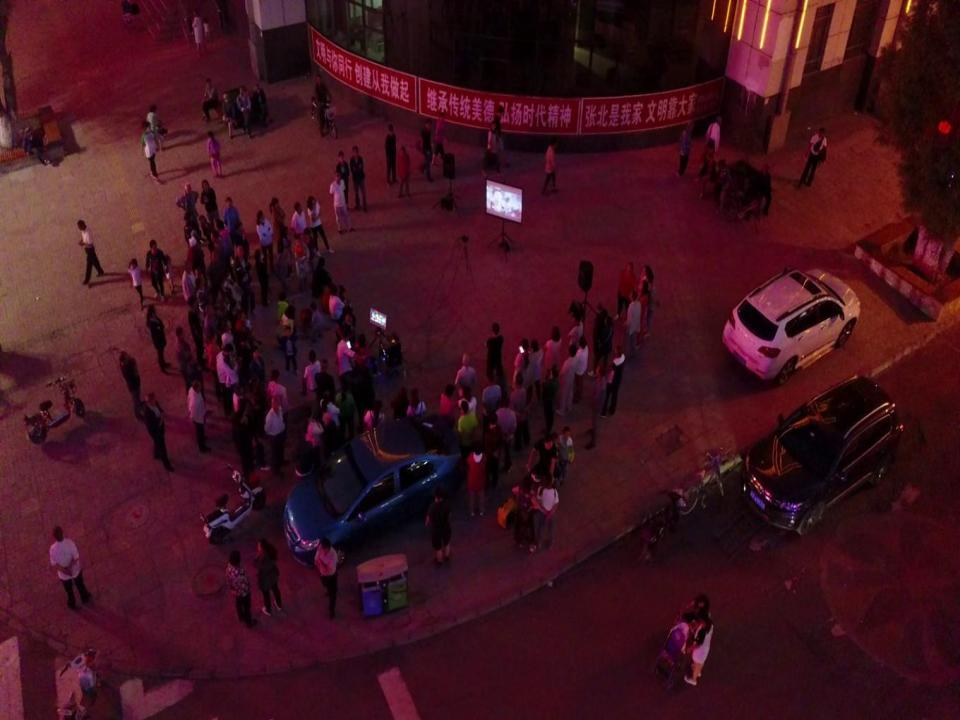car: (284, 411, 463, 566), (740, 374, 904, 539), (722, 265, 861, 384)
